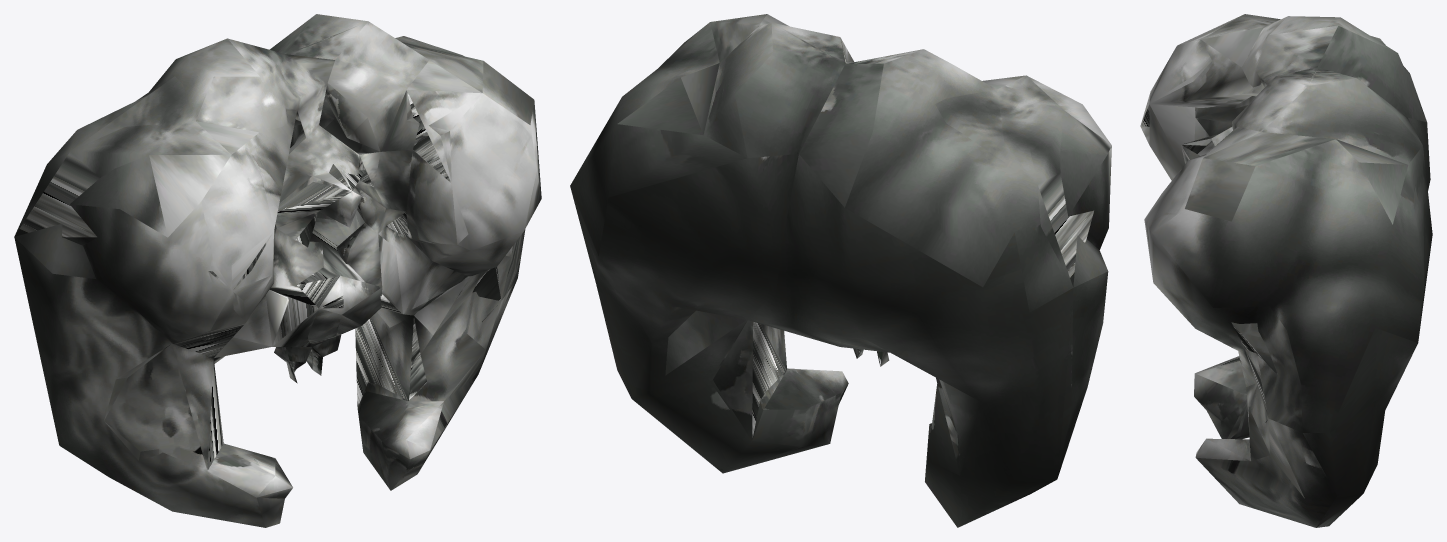
The model's file is item_squishy_armstrong.glb.
The picture shows the model from 3 angles, left to right: view 1: azimuth 30°, elevation 25°; view 2: azimuth 150°, elevation 25°; view 3: azimuth 270°, elevation 25°; orthographic projection. The views are drawn at different scales.
Visible parts, largest first — view 1: toy_armstrong; view 2: toy_armstrong; view 3: toy_armstrong.
Boxes of the visible parts, x1,y1,x2,y2 form: toy_armstrong: (14,14,541,527); toy_armstrong: (570,14,1111,527); toy_armstrong: (1140,14,1432,527).
Size of the model in its own units: 0.3817 by 0.3288 by 0.2051.
1 material, 1 textured.
